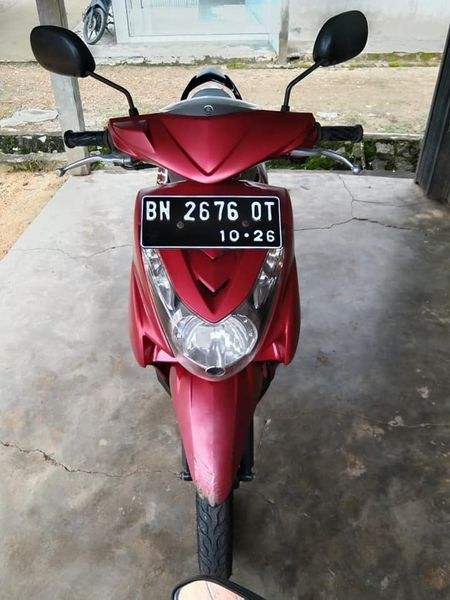plate: (142, 186, 291, 262)
